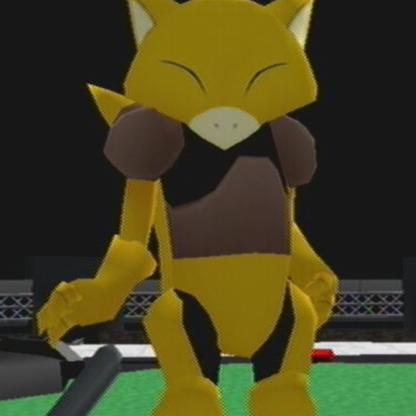Abra: (23, 2, 362, 416)
